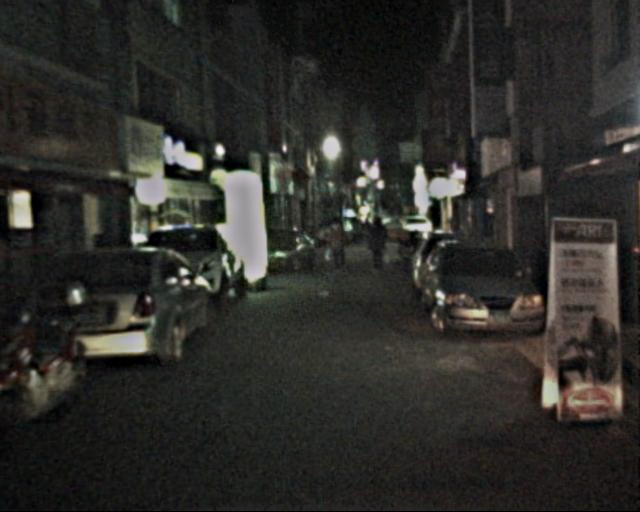person: (366, 216, 392, 280), (326, 215, 351, 275)
